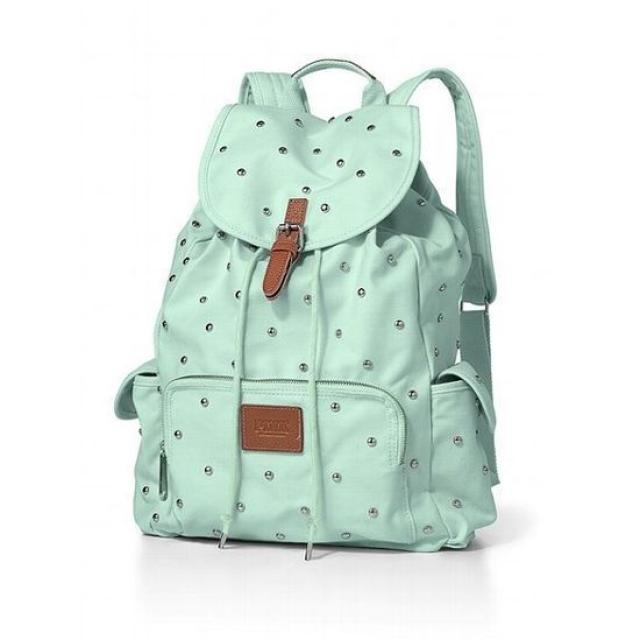backpack: (114, 58, 501, 560)
